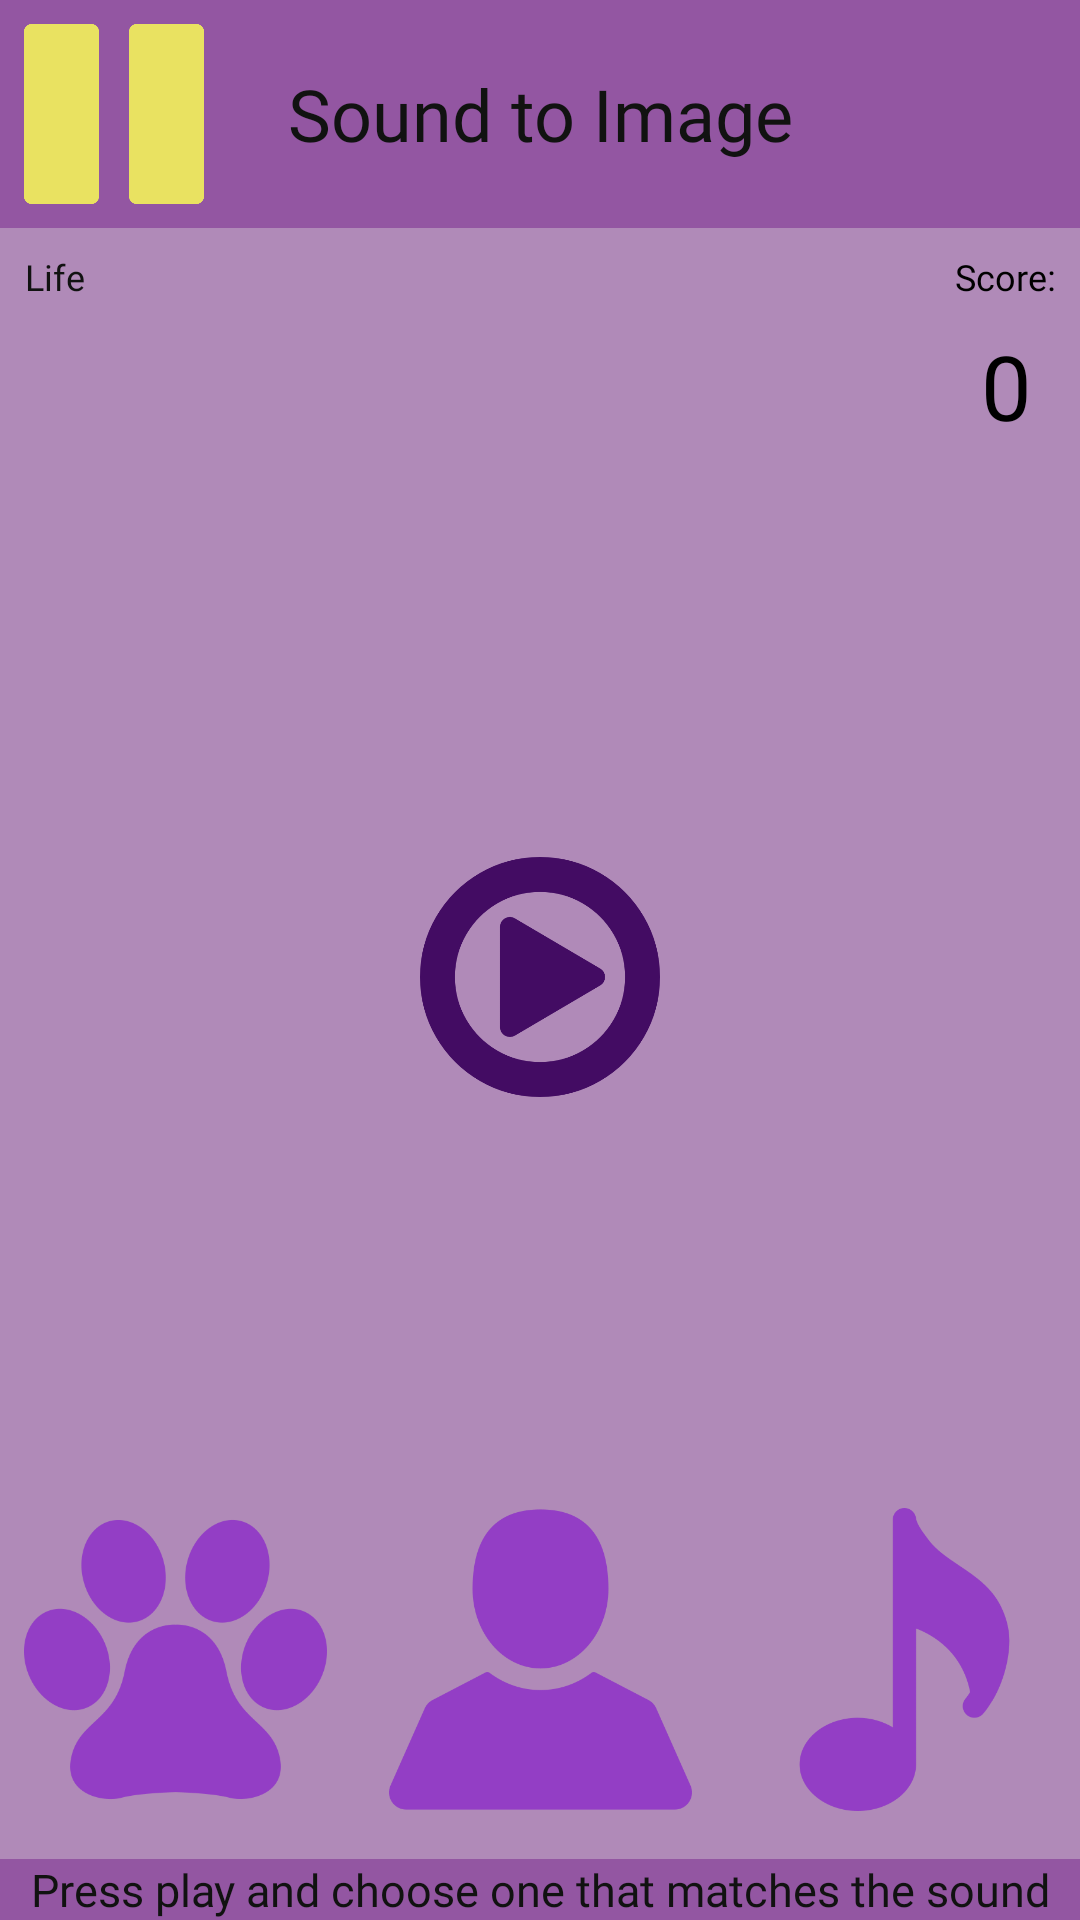

Screen size 1080px x 1920px. Icon name, then its center in pixels as [x,y]:
instru: [904,1659]
pause: [114,114]
paw: [175,1659]
person: [540,1659]
play: [540,977]
